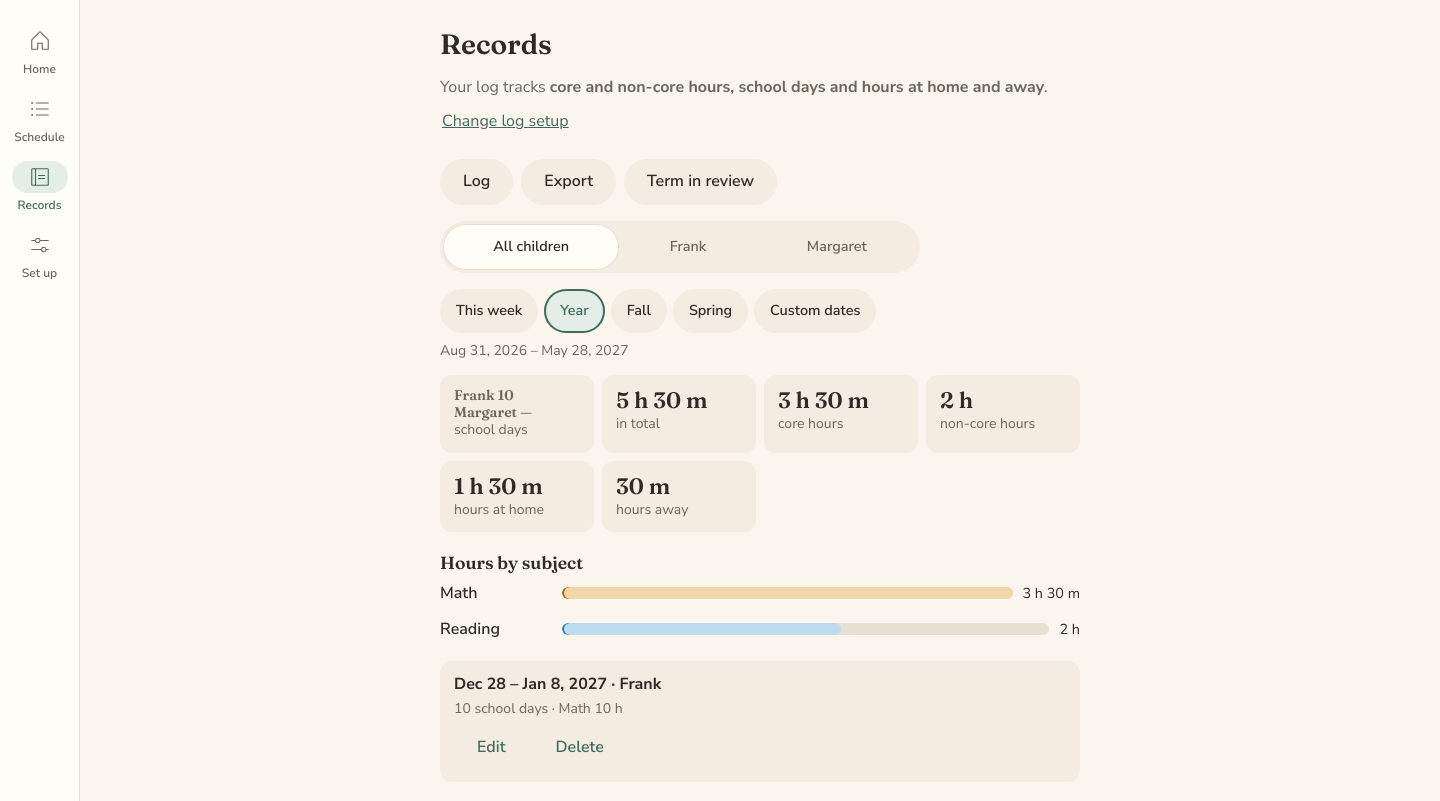
Records with entries › S9b-01: an entry partly in the range is listed as its part inside, with where it came from, and Edit opens the whole entry
Expected: the element named "Totals" is shown, [440, 375, 1080, 532]
Click the button "Fall": (639, 311) [611, 289, 667, 333]
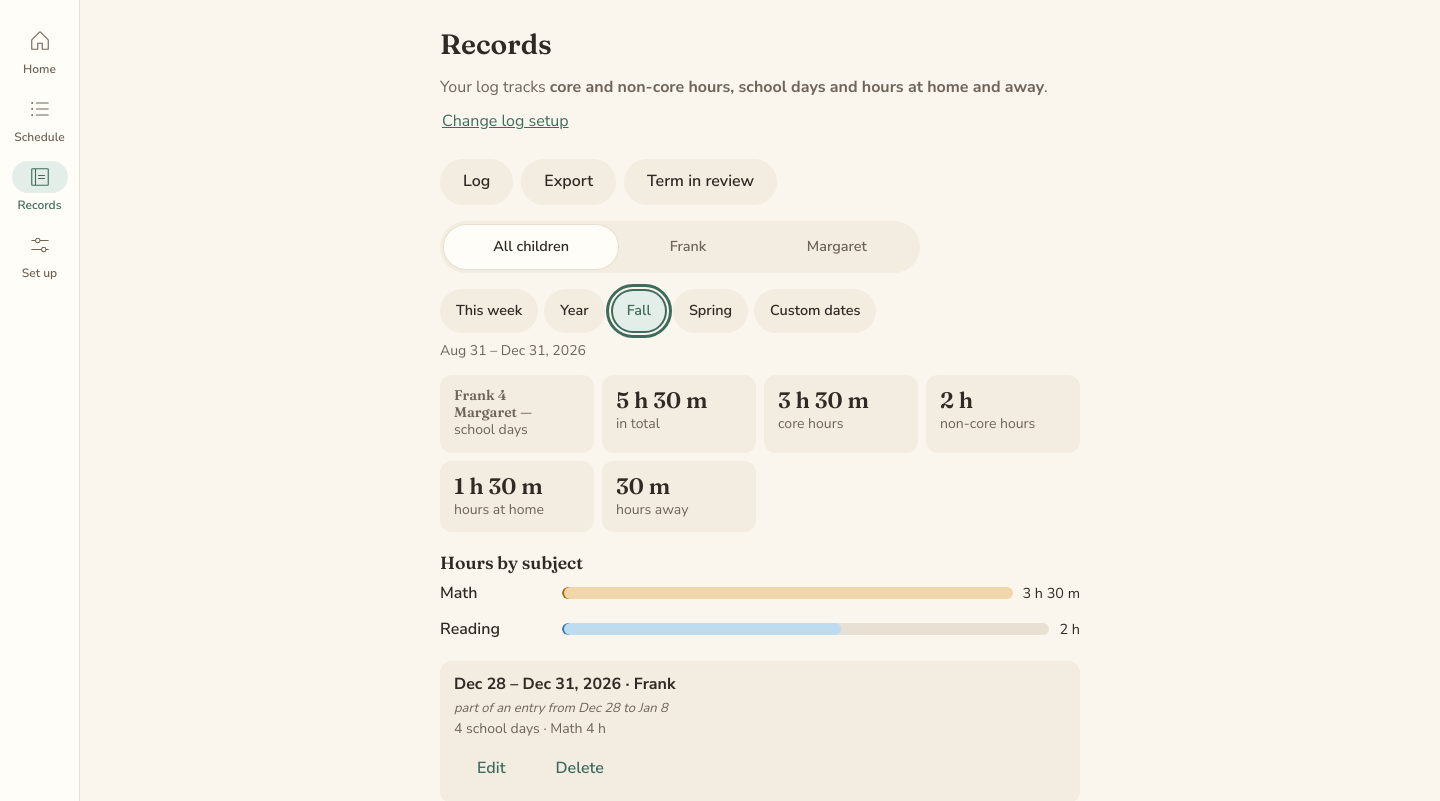
Expected: the button with aria-label "Edit Frank, Dec 28 – Jan 8, 2027" is shown, [454, 746, 528, 791]
Now the text "part of an entry from Dec 28 to Jan 8" is shown, box [454, 699, 668, 717]
Now the text "4 school days · Math 4 h" is shown, box [454, 720, 606, 738]
